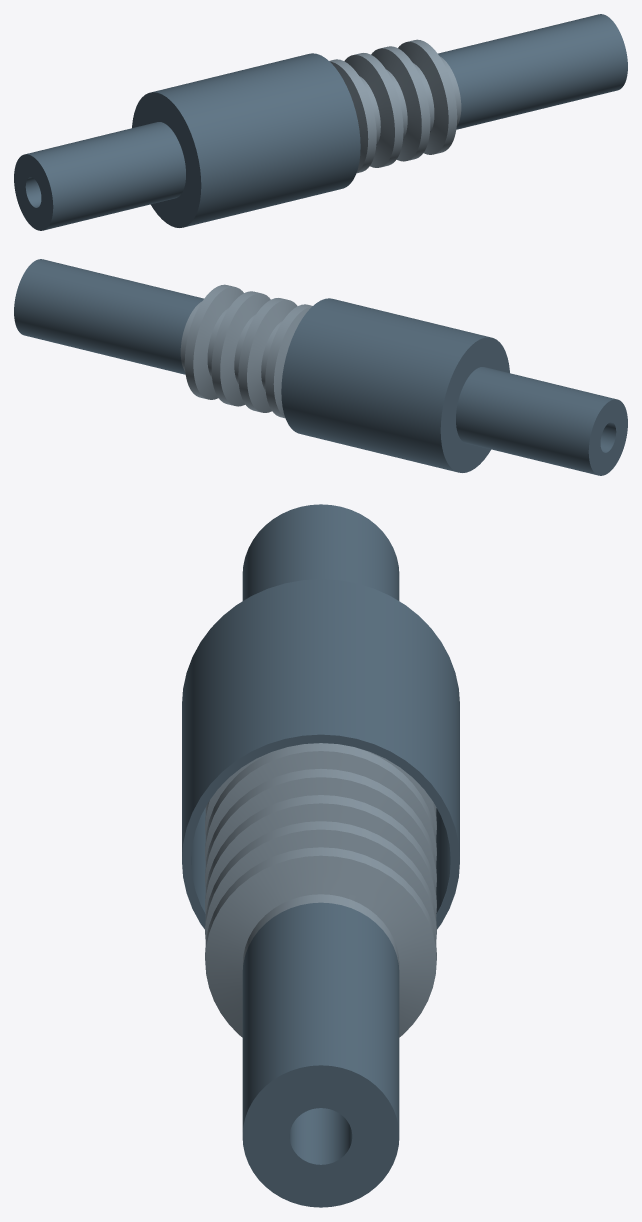
File: silf-dn25-L285-D33_7-k-o48_3.glb
The picture shows the model from 3 angles, top to bottom: view 1: azimuth 30°, elevation 25°; view 2: azimuth 150°, elevation 25°; view 3: azimuth 270°, elevation 25°; orthographic projection. The views are drawn at different scales.
Visible parts, largest first — view 1: osnovanie_kozhuh_1, patrubok_2, patrubok_1, prokladka_silfon_1; view 2: osnovanie_kozhuh_1, patrubok_2, patrubok_1, prokladka_silfon_1; view 3: osnovanie_kozhuh_1, prokladka_silfon_1, patrubok_2, patrubok_1.
Boxes of the visible parts, left/top/right/bottom form: osnovanie_kozhuh_1: left=132, top=53, right=360, bottom=227; patrubok_2: left=438, top=14, right=627, bottom=129; patrubok_1: left=14, top=122, right=185, bottom=230; prokladka_silfon_1: left=329, top=39, right=461, bottom=173; osnovanie_kozhuh_1: left=281, top=298, right=509, bottom=472; patrubok_2: left=14, top=259, right=203, bottom=374; patrubok_1: left=456, top=367, right=627, bottom=475; prokladka_silfon_1: left=180, top=284, right=312, bottom=418; osnovanie_kozhuh_1: left=182, top=579, right=459, bottom=929; prokladka_silfon_1: left=205, top=743, right=436, bottom=1037; patrubok_2: left=242, top=902, right=399, bottom=1207; patrubok_1: left=242, top=504, right=399, bottom=600.
Bounding box in the file's own units: 285 × 59.74 × 59.74.
